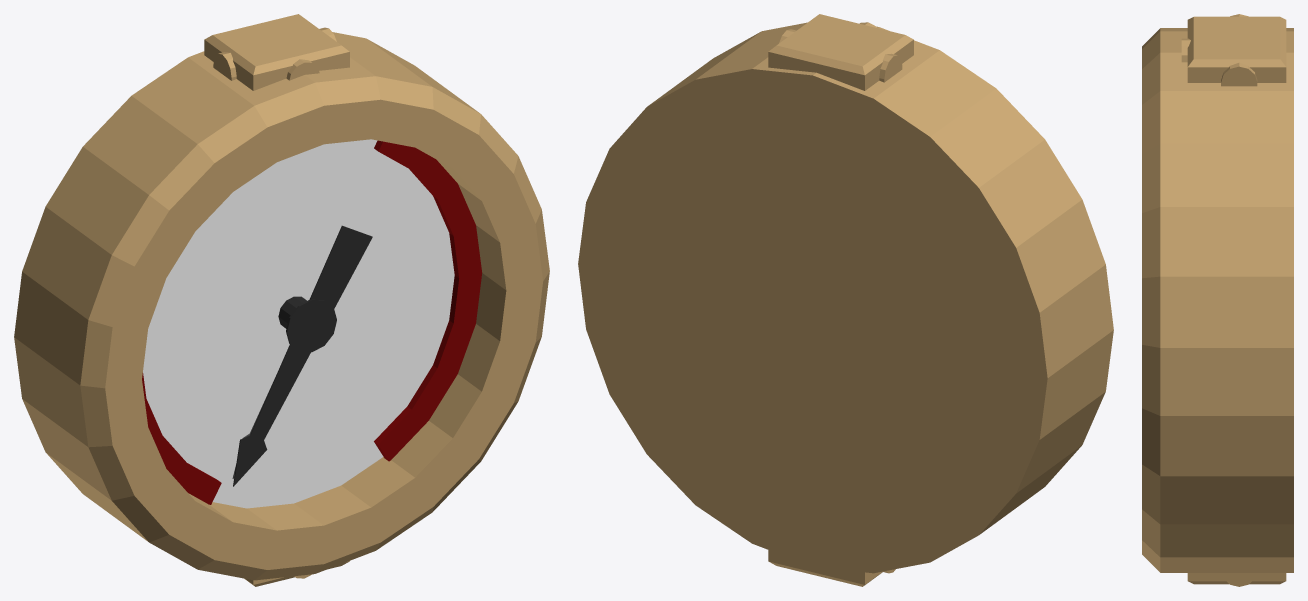
Rendered from controller_dial.fbx.
The picture shows the model from 3 angles, left to right: view 1: azimuth 30°, elevation 25°; view 2: azimuth 150°, elevation 25°; view 3: azimuth 270°, elevation 25°; orthographic projection.
Visible parts, largest first — view 1: dial, full_right, pointer, full_left; view 2: dial; view 3: dial.
Boxes of the visible parts, x1,y1,x2,y2 form: dial: (14,14,549,586); full_right: (374,140,482,461); pointer: (233,225,372,486); full_left: (142,373,221,504); dial: (578,14,1113,586); dial: (1142,14,1293,586).
Size of the model in its own units: 18 by 19.07 by 5.
